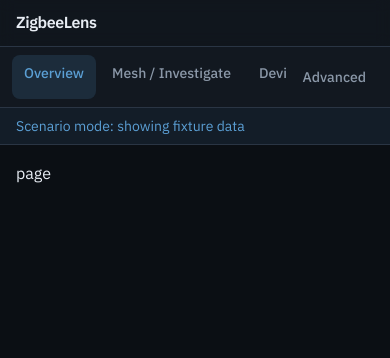
Test: AppShell navigation › keeps the mobile Advanced popup outside the overflow-x-auto scroller
Click the button with aria-label "advanced and support navigation".
click(334, 77)  # box [290,55,378,99]
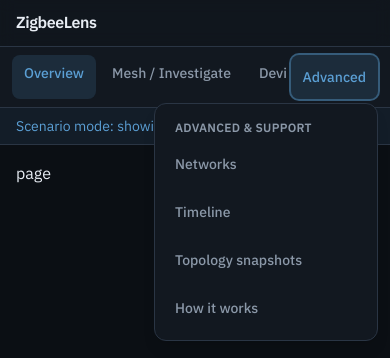
Expected: the element "Networks" is shown, [154,103,378,341]
